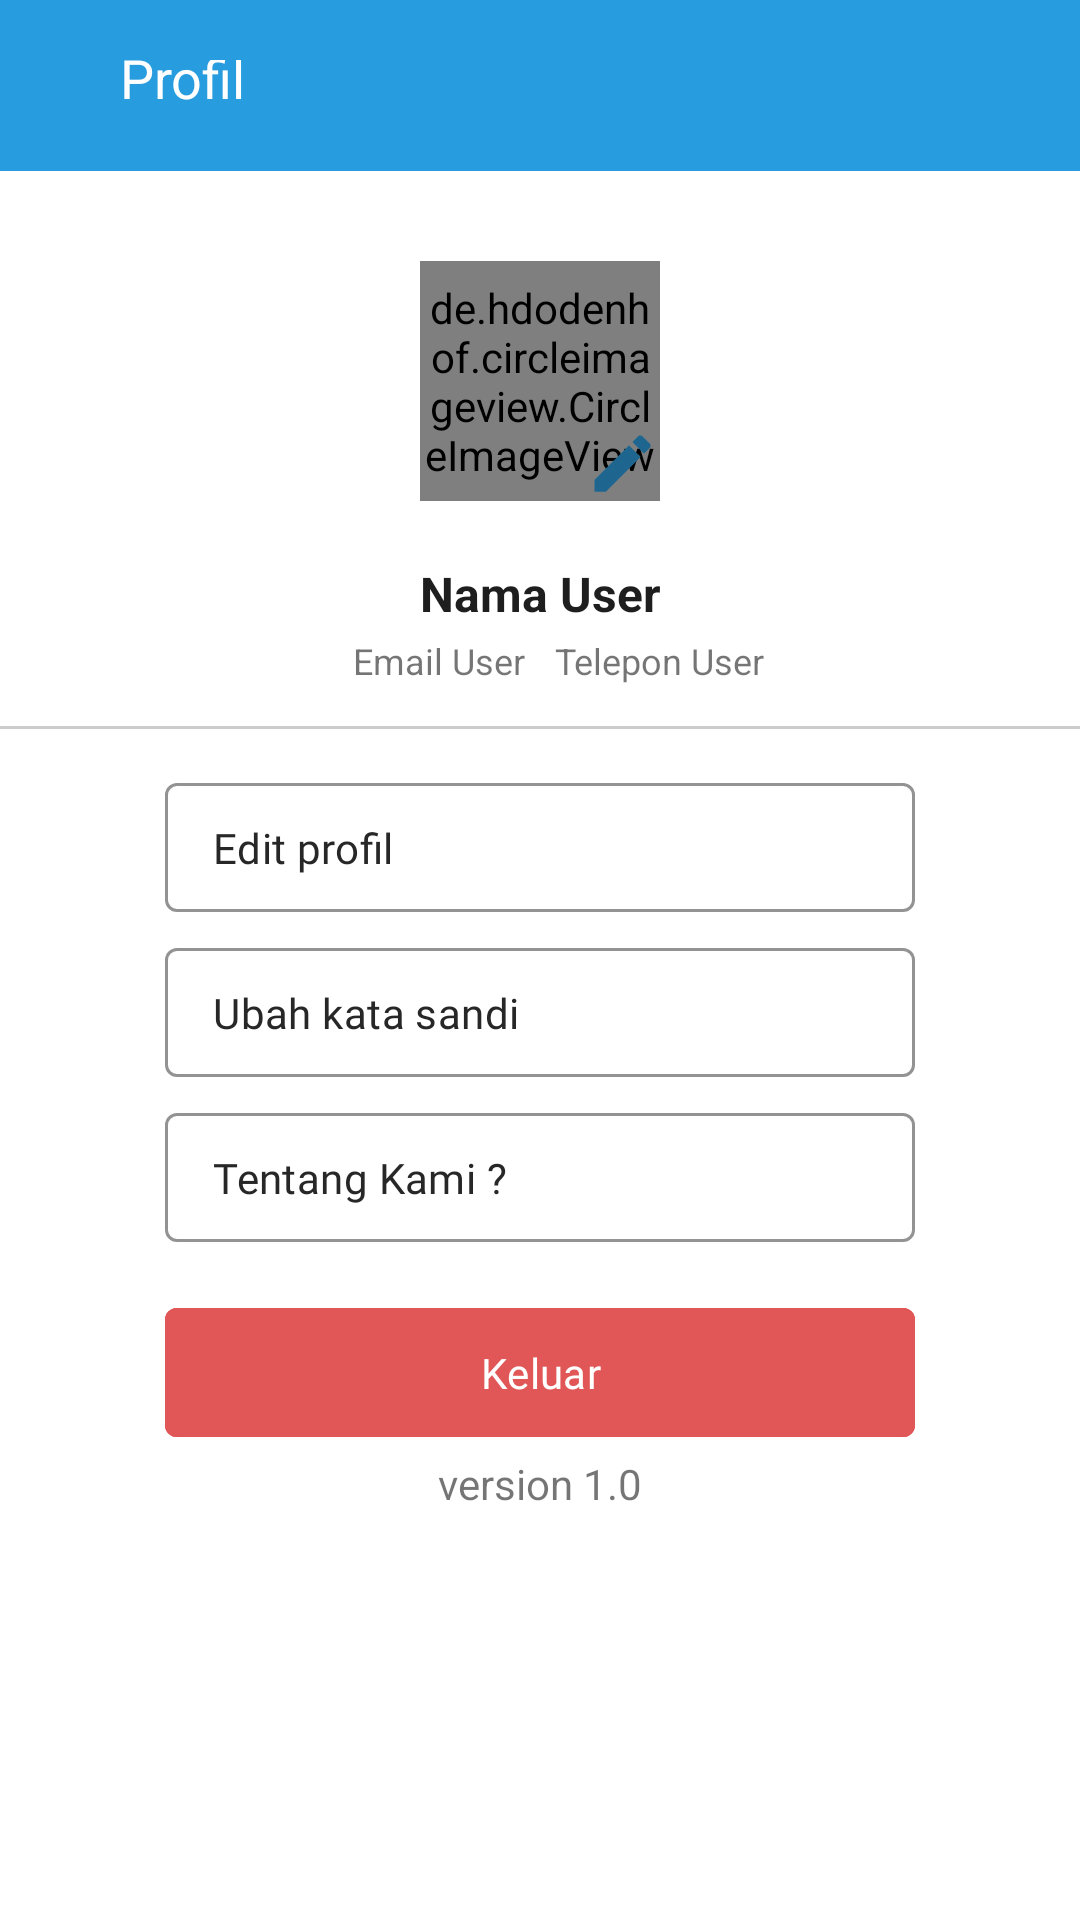

Icons on this 1080*1920 Android screen, each with its box as (x1, y1, x2, y2):
create: (594, 435, 654, 492)
